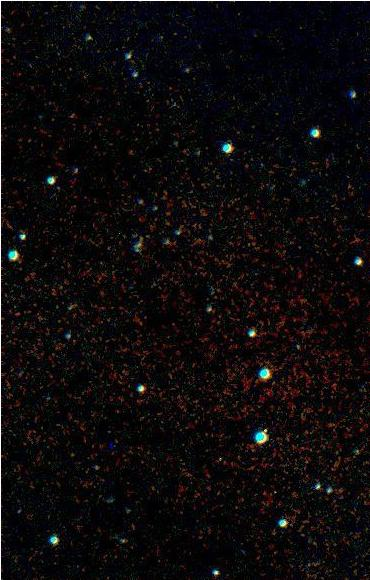star: (245, 413, 275, 443)
